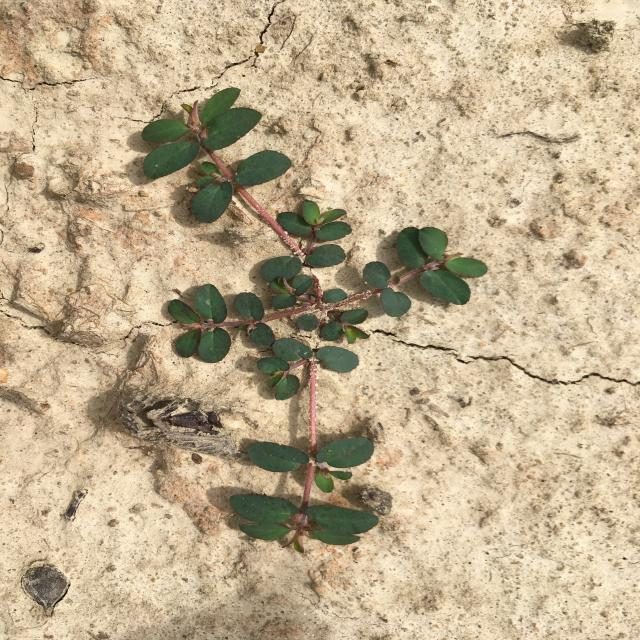SpottedSpurge: (141, 87, 488, 554)
